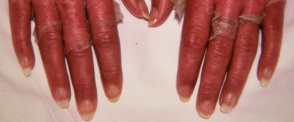SJS-TEN: (9, 0, 129, 64), (160, 0, 288, 46)
